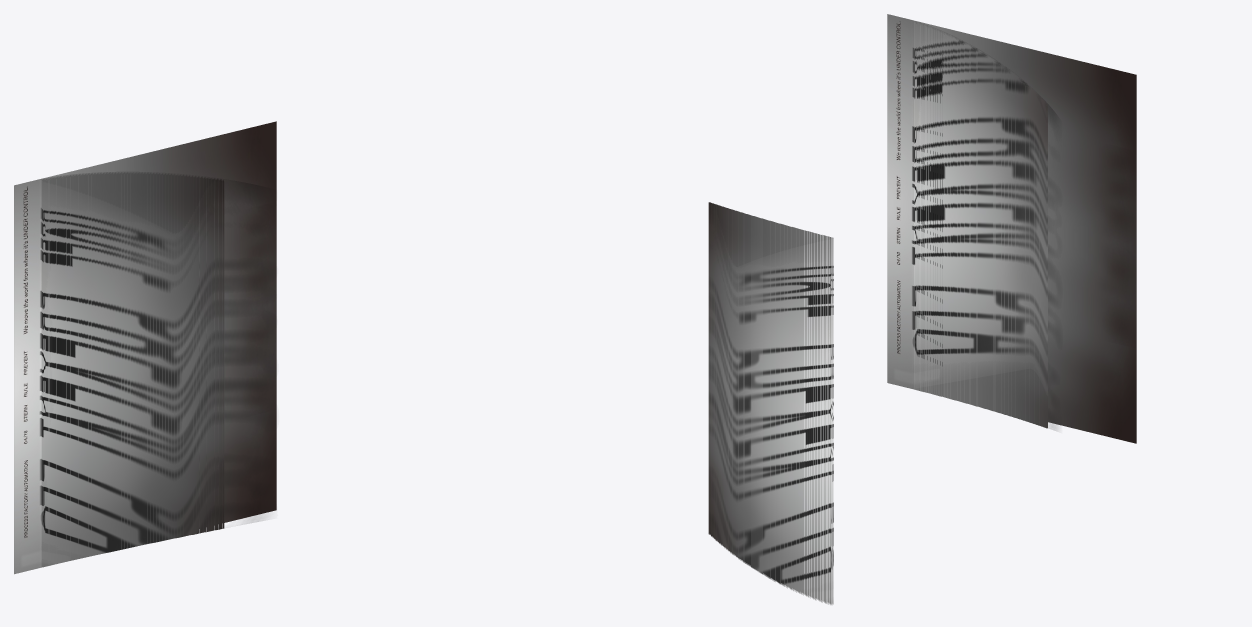
The picture shows the model from 3 angles, left to right: view 1: azimuth 30°, elevation 25°; view 2: azimuth 150°, elevation 25°; view 3: azimuth 330°, elevation 25°; orthographic projection. The views are drawn at different scales.
Visible parts, largest first — view 1: Angle_Blinds, Wall, Shadows; view 2: Angle_Blinds; view 3: Wall, Angle_Blinds, Shadows.
Boxes of the visible parts, x1=… form: Angle_Blinds: x1=41, y1=172, x2=224, y2=567; Wall: x1=14, y1=121, x2=276, y2=574; Shadows: x1=40, y1=181, x2=265, y2=523; Angle_Blinds: x1=708, y1=202, x2=833, y2=604; Wall: x1=887, y1=14, x2=1136, y2=443; Angle_Blinds: x1=914, y1=21, x2=1047, y2=428; Shadows: x1=912, y1=48, x2=1056, y2=430.
Size of the model in its own units: 0.9447 by 1.3 by 0.1899.
Materials: 5 (4 with a texture image).
